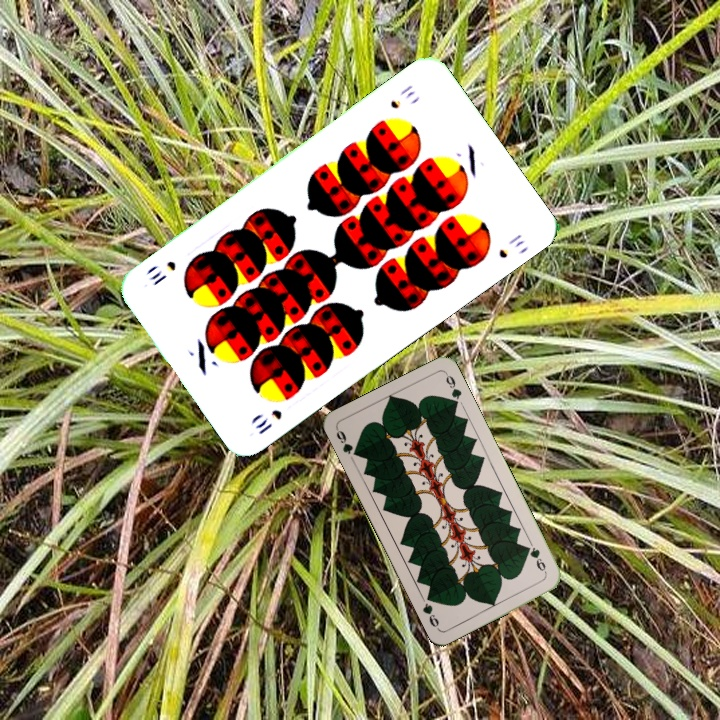G9: (332, 425, 362, 459), (522, 542, 549, 576)
S10: (251, 405, 285, 438), (386, 80, 418, 112)
